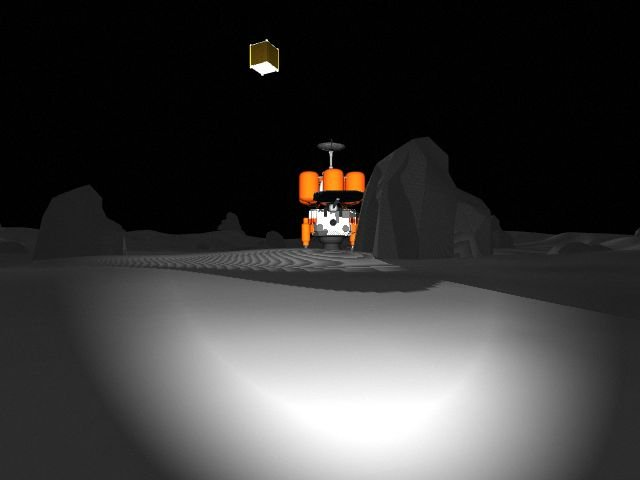cubesat: (244, 36, 285, 80)
